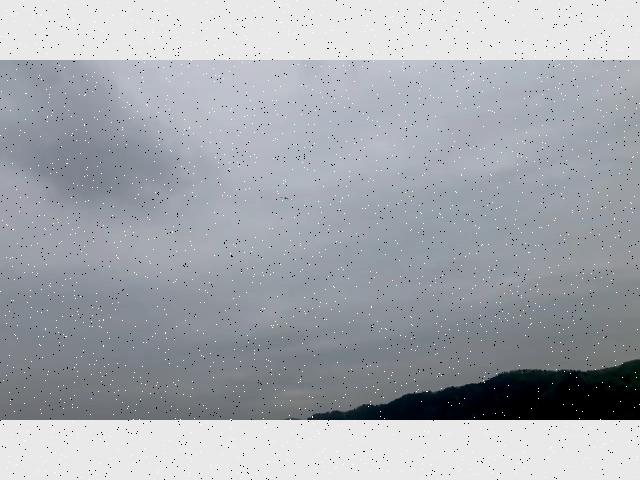Anti-Drone: (270, 194, 304, 208)
